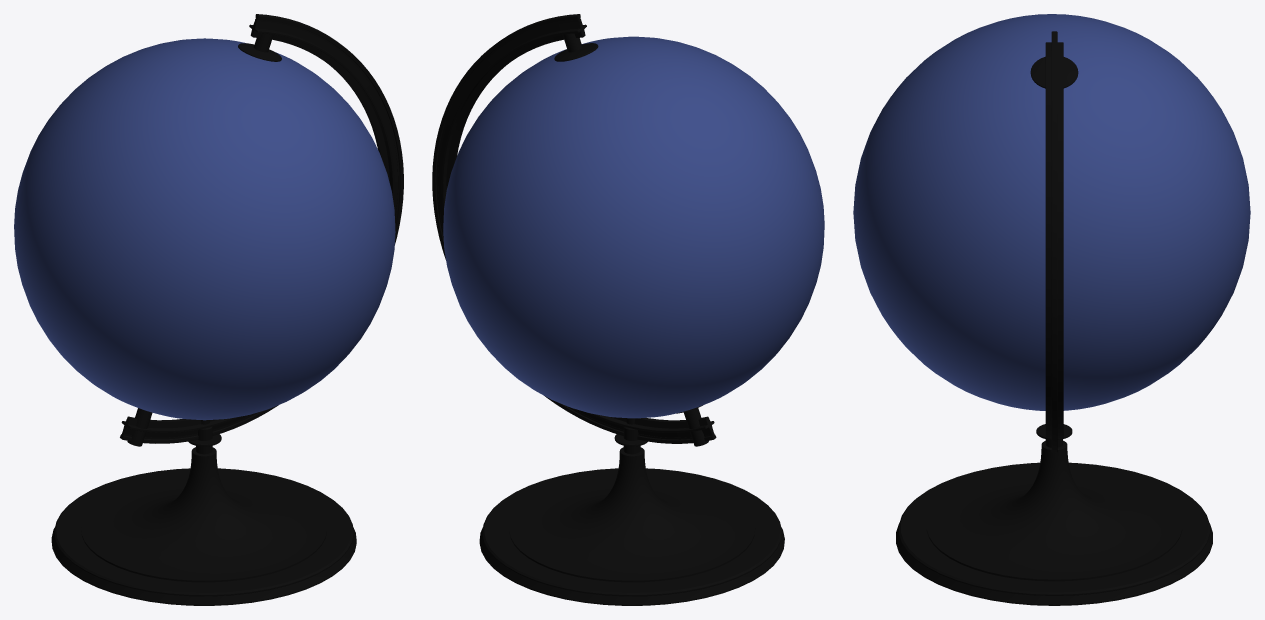
The model's file is map.obj.
3 views of the same model, side by side, from view 1: azimuth 30°, elevation 25°; view 2: azimuth 150°, elevation 25°; view 3: azimuth 270°, elevation 25° (orthographic). The views are drawn at different scales.
Visible parts, largest first — view 1: Globe_Icon2; view 2: Globe_Icon2; view 3: Globe_Icon2.
Part boxes in pixels (bbox=[...]): Globe_Icon2: bbox=[14, 14, 403, 605]; Globe_Icon2: bbox=[432, 14, 824, 605]; Globe_Icon2: bbox=[853, 14, 1250, 605].
Size of the model in its own units: 0.6272 by 0.8447 by 0.5691.
